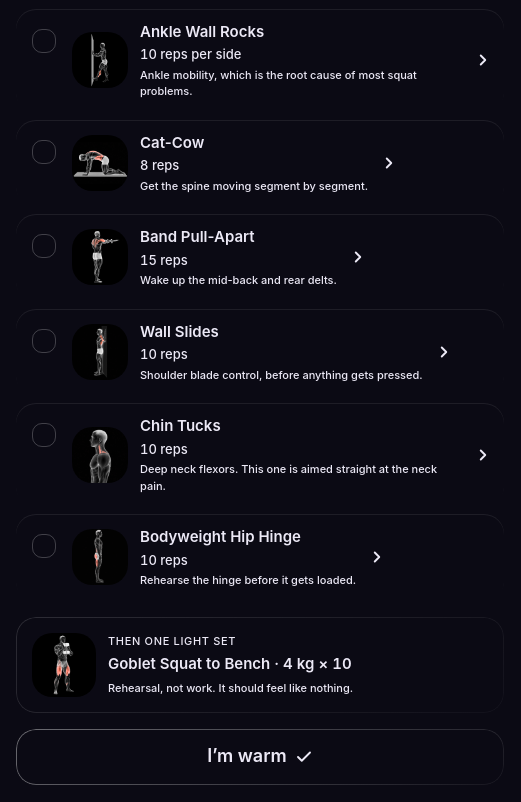
Test: the calibration week › explains itself instead of pretending the weight means something
(page scrolled)
Click the button "I’m warm": click(260, 757) x1=16 y1=729 x2=504 y2=785
(page scrolled)
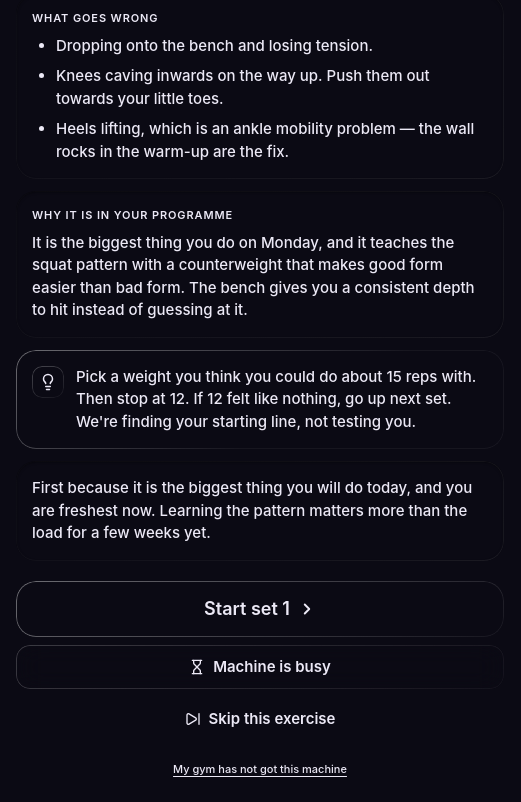
Check: the text "we.re finding your starting line" is shown, box x1=76 y1=367 x2=476 y2=431
